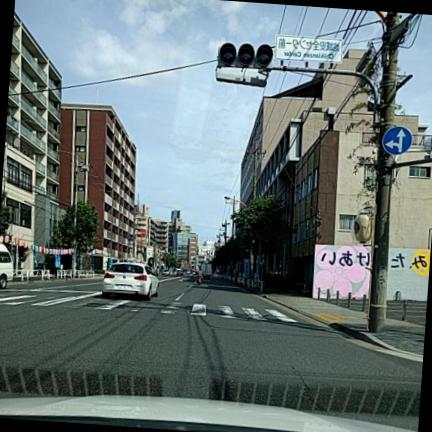Road: (0, 278, 422, 428)
